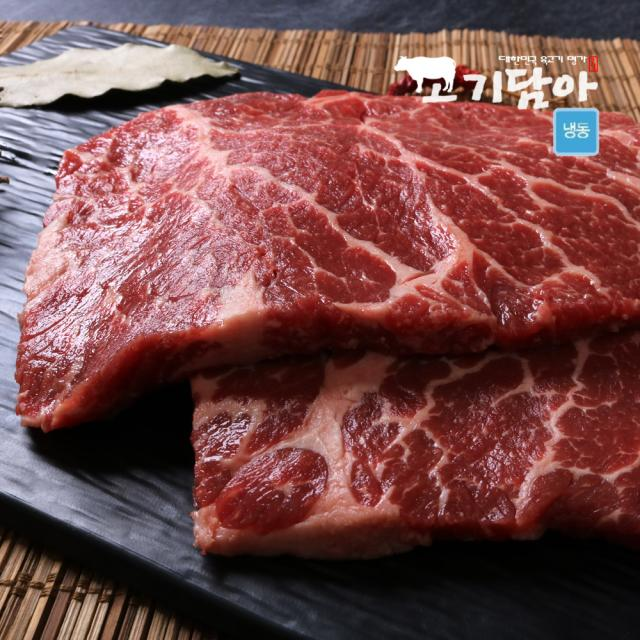beef: (44, 113, 532, 387), (186, 316, 639, 514)
